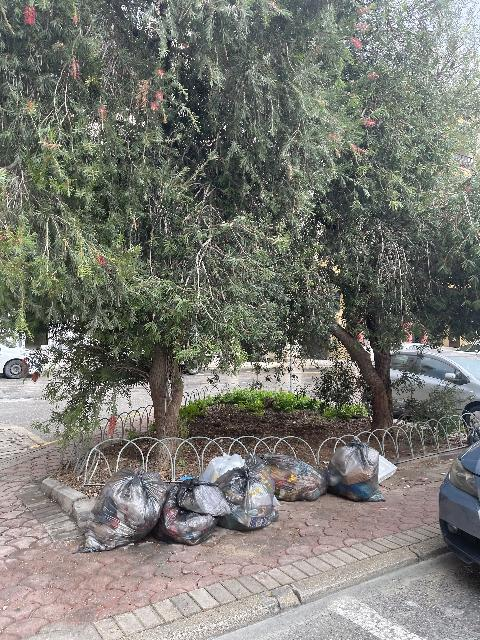Other: (199, 454, 245, 483), (378, 455, 397, 483)
Recyclable -Grey-: (84, 468, 167, 551), (214, 454, 278, 531), (152, 485, 217, 545), (324, 439, 385, 501), (262, 452, 326, 501), (176, 478, 231, 517)
